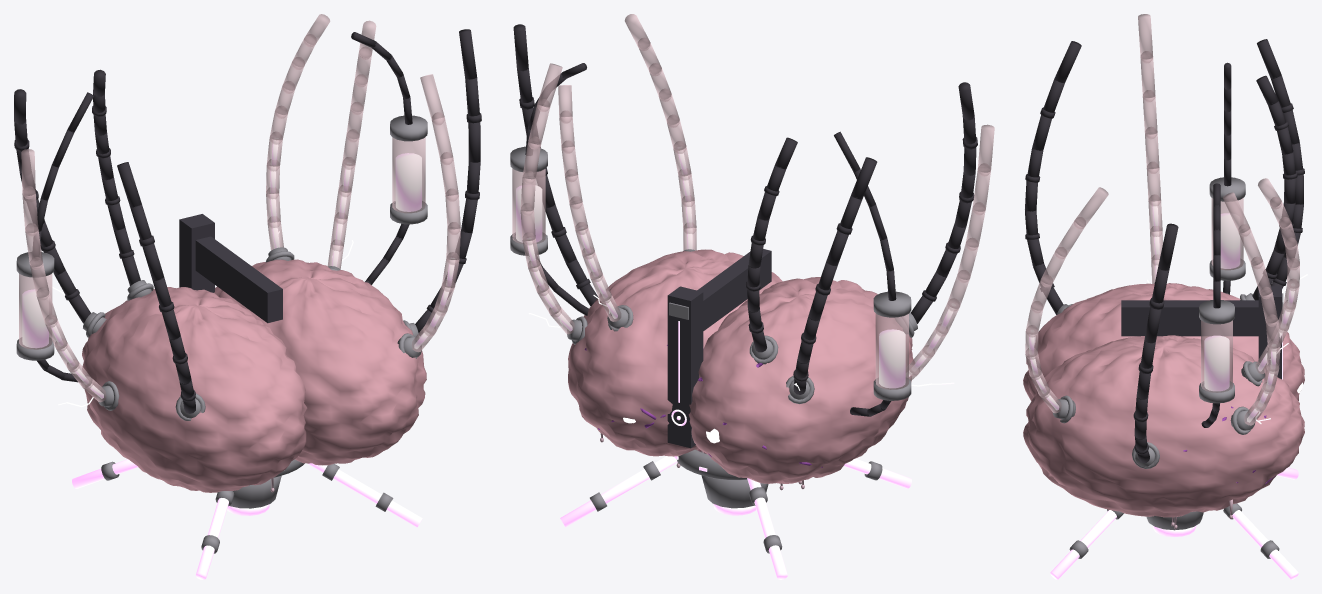
Rendered from mozek.glb.
The picture shows the model from 3 angles, left to right: view 1: azimuth 30°, elevation 25°; view 2: azimuth 150°, elevation 25°; view 3: azimuth 270°, elevation 25°; orthographic projection. The views are drawn at different scales.
Visible parts, largest first — view 1: Brain; view 2: Brain; view 3: Brain.
Boxes of the visible parts, x1,y1,x2,y2 form: Brain: (14, 14, 481, 579); Brain: (510, 14, 994, 579); Brain: (1023, 14, 1307, 579).
Size of the model in its own units: 4.8 by 4.23 by 2.68.
